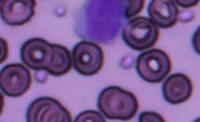M: (75, 0, 125, 43)
